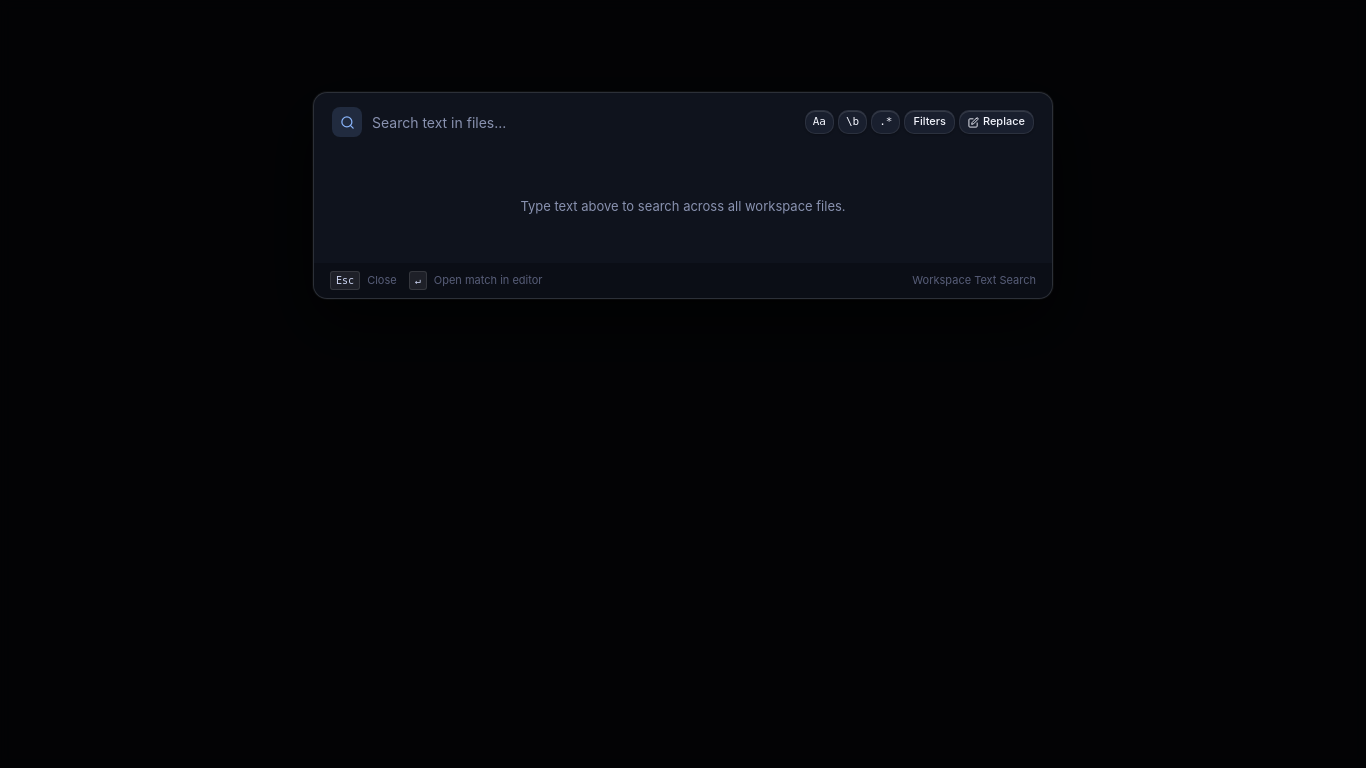
Test: WorkspaceSearchModal — M50 selection, snapshot & diff › renders the snapshot-created state in the apply summary
This screenshot has width=1366, height=768.
Step 1. Type "hello" into the field with placeholder "Search text in files..." → (583, 122), box [372, 112, 795, 133]
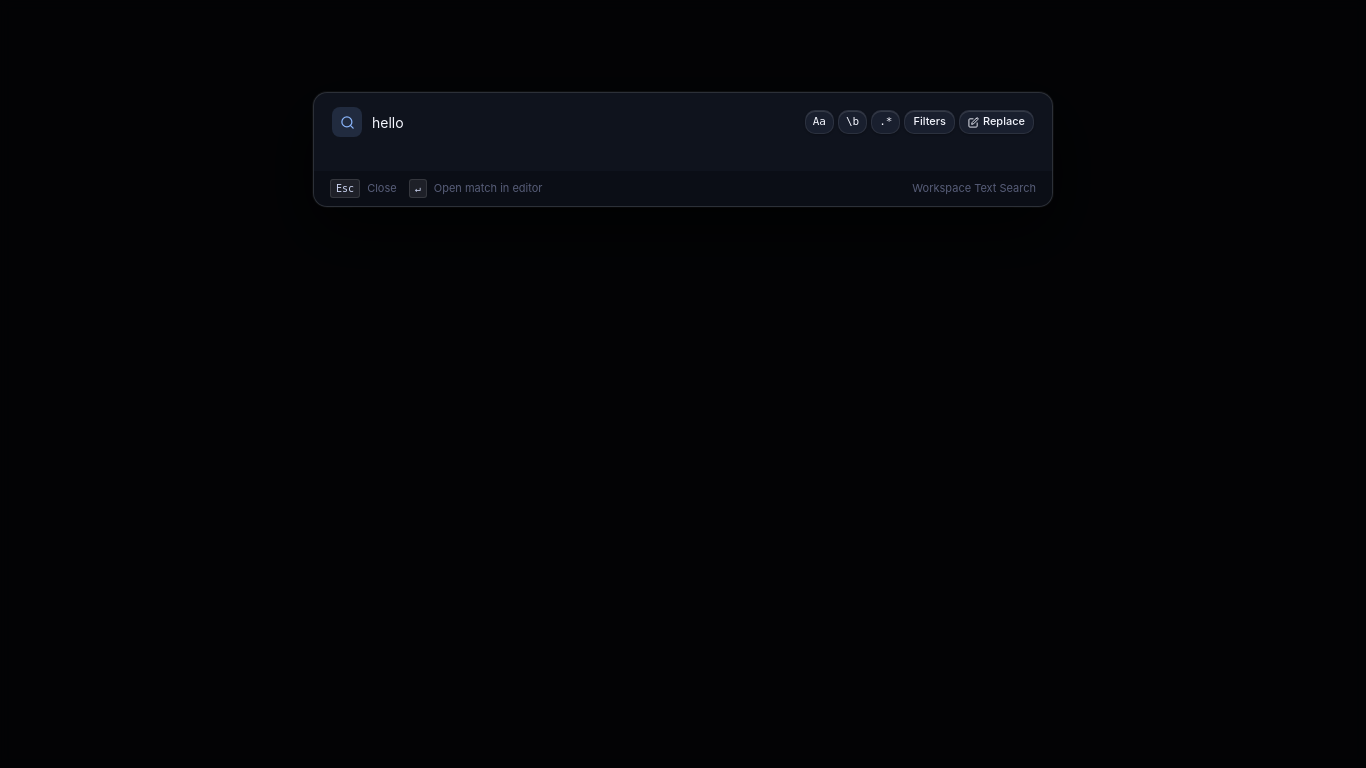
Step 2. Click the button titled "Toggle Replace" → (996, 122), box [959, 110, 1034, 134]
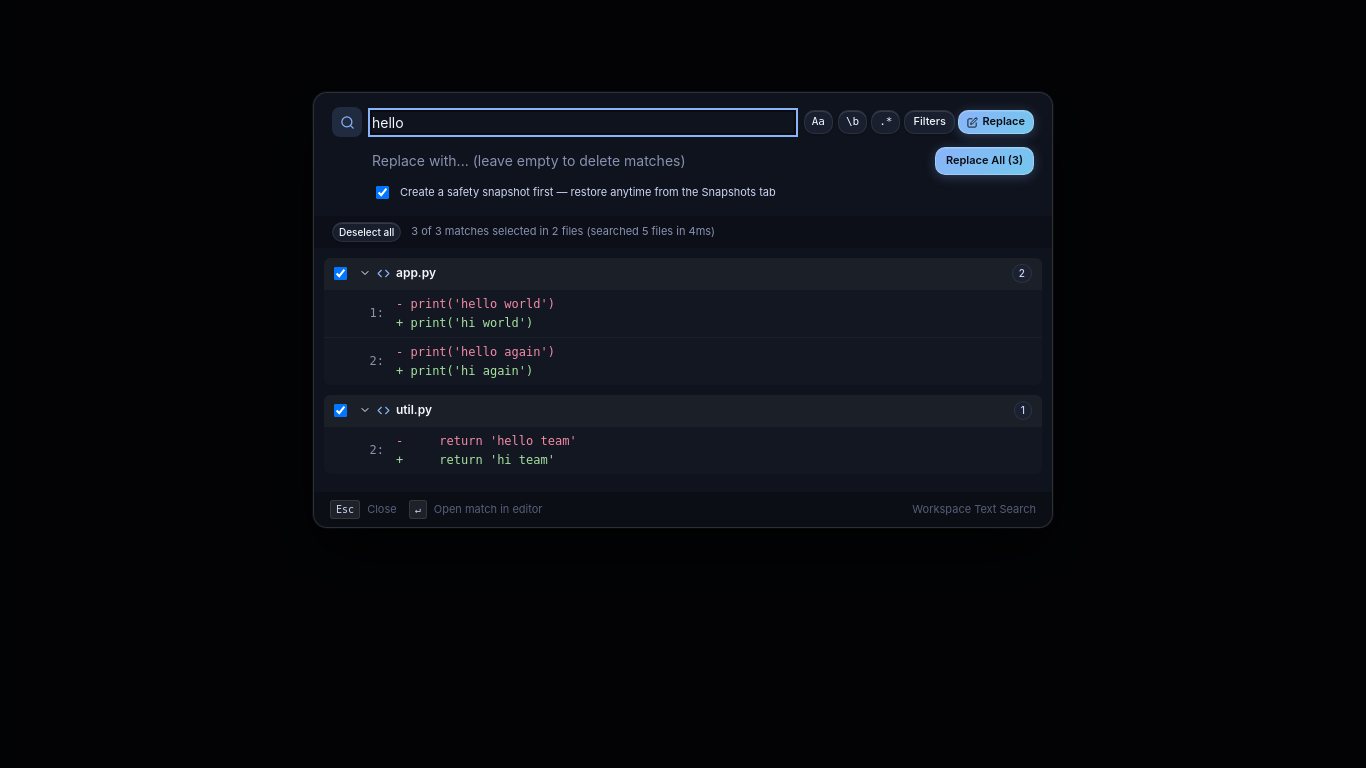
Now the text "3 of 3 matches selected in 2 files (searched 5 files in 4ms)" is shown, box [411, 223, 715, 240]
Step 3. Click the button "Replace All (3)" → (984, 161), box [935, 147, 1034, 175]
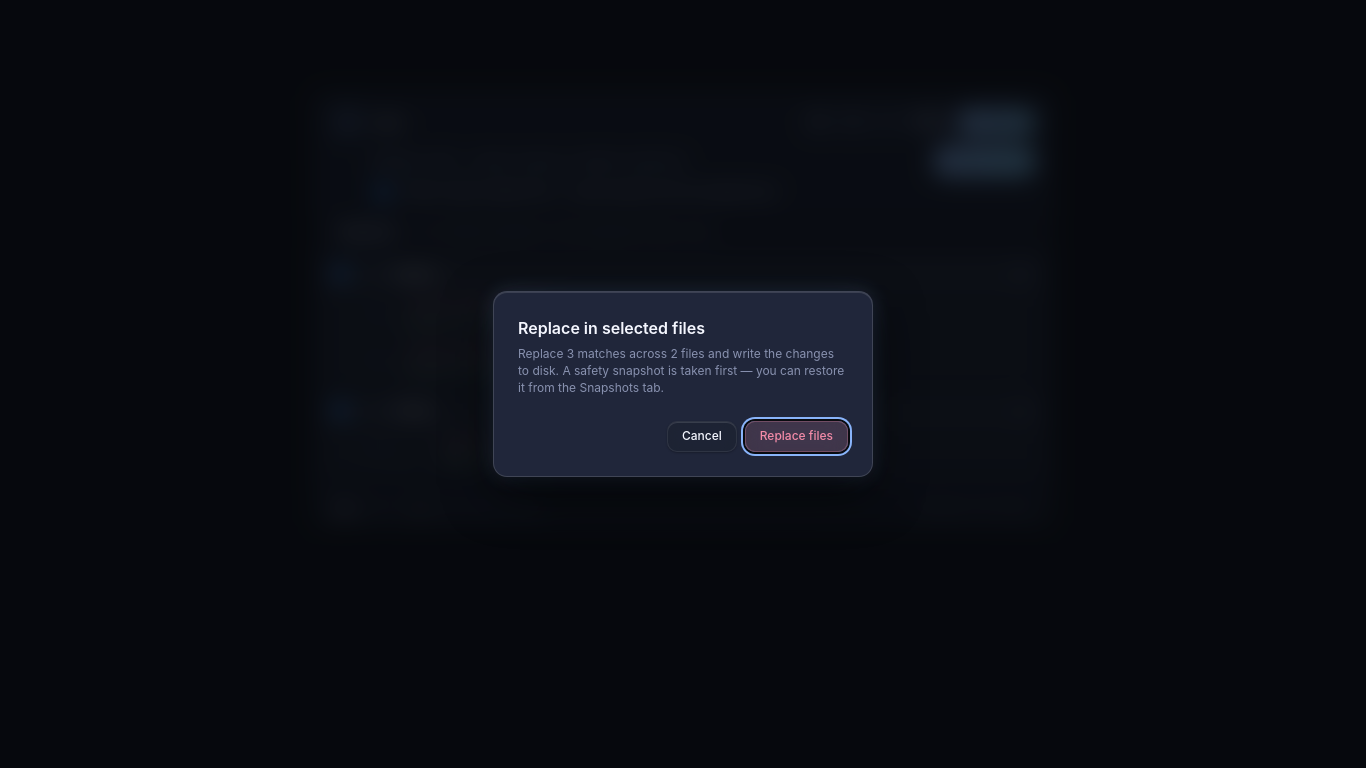
Step 4. Click the button "Replace files" → (796, 436), box [745, 421, 848, 452]
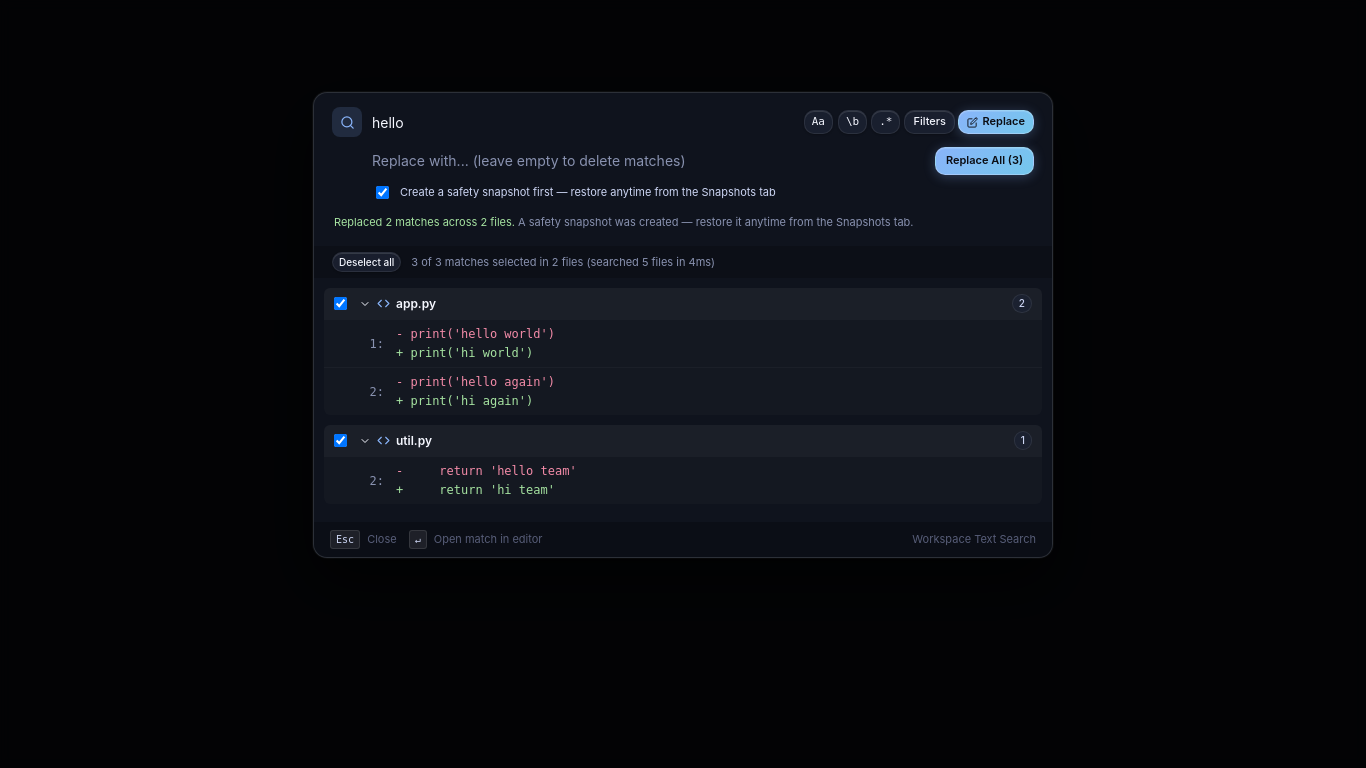
Now the text "A safety snapshot was created" is shown, box [518, 214, 914, 228]
